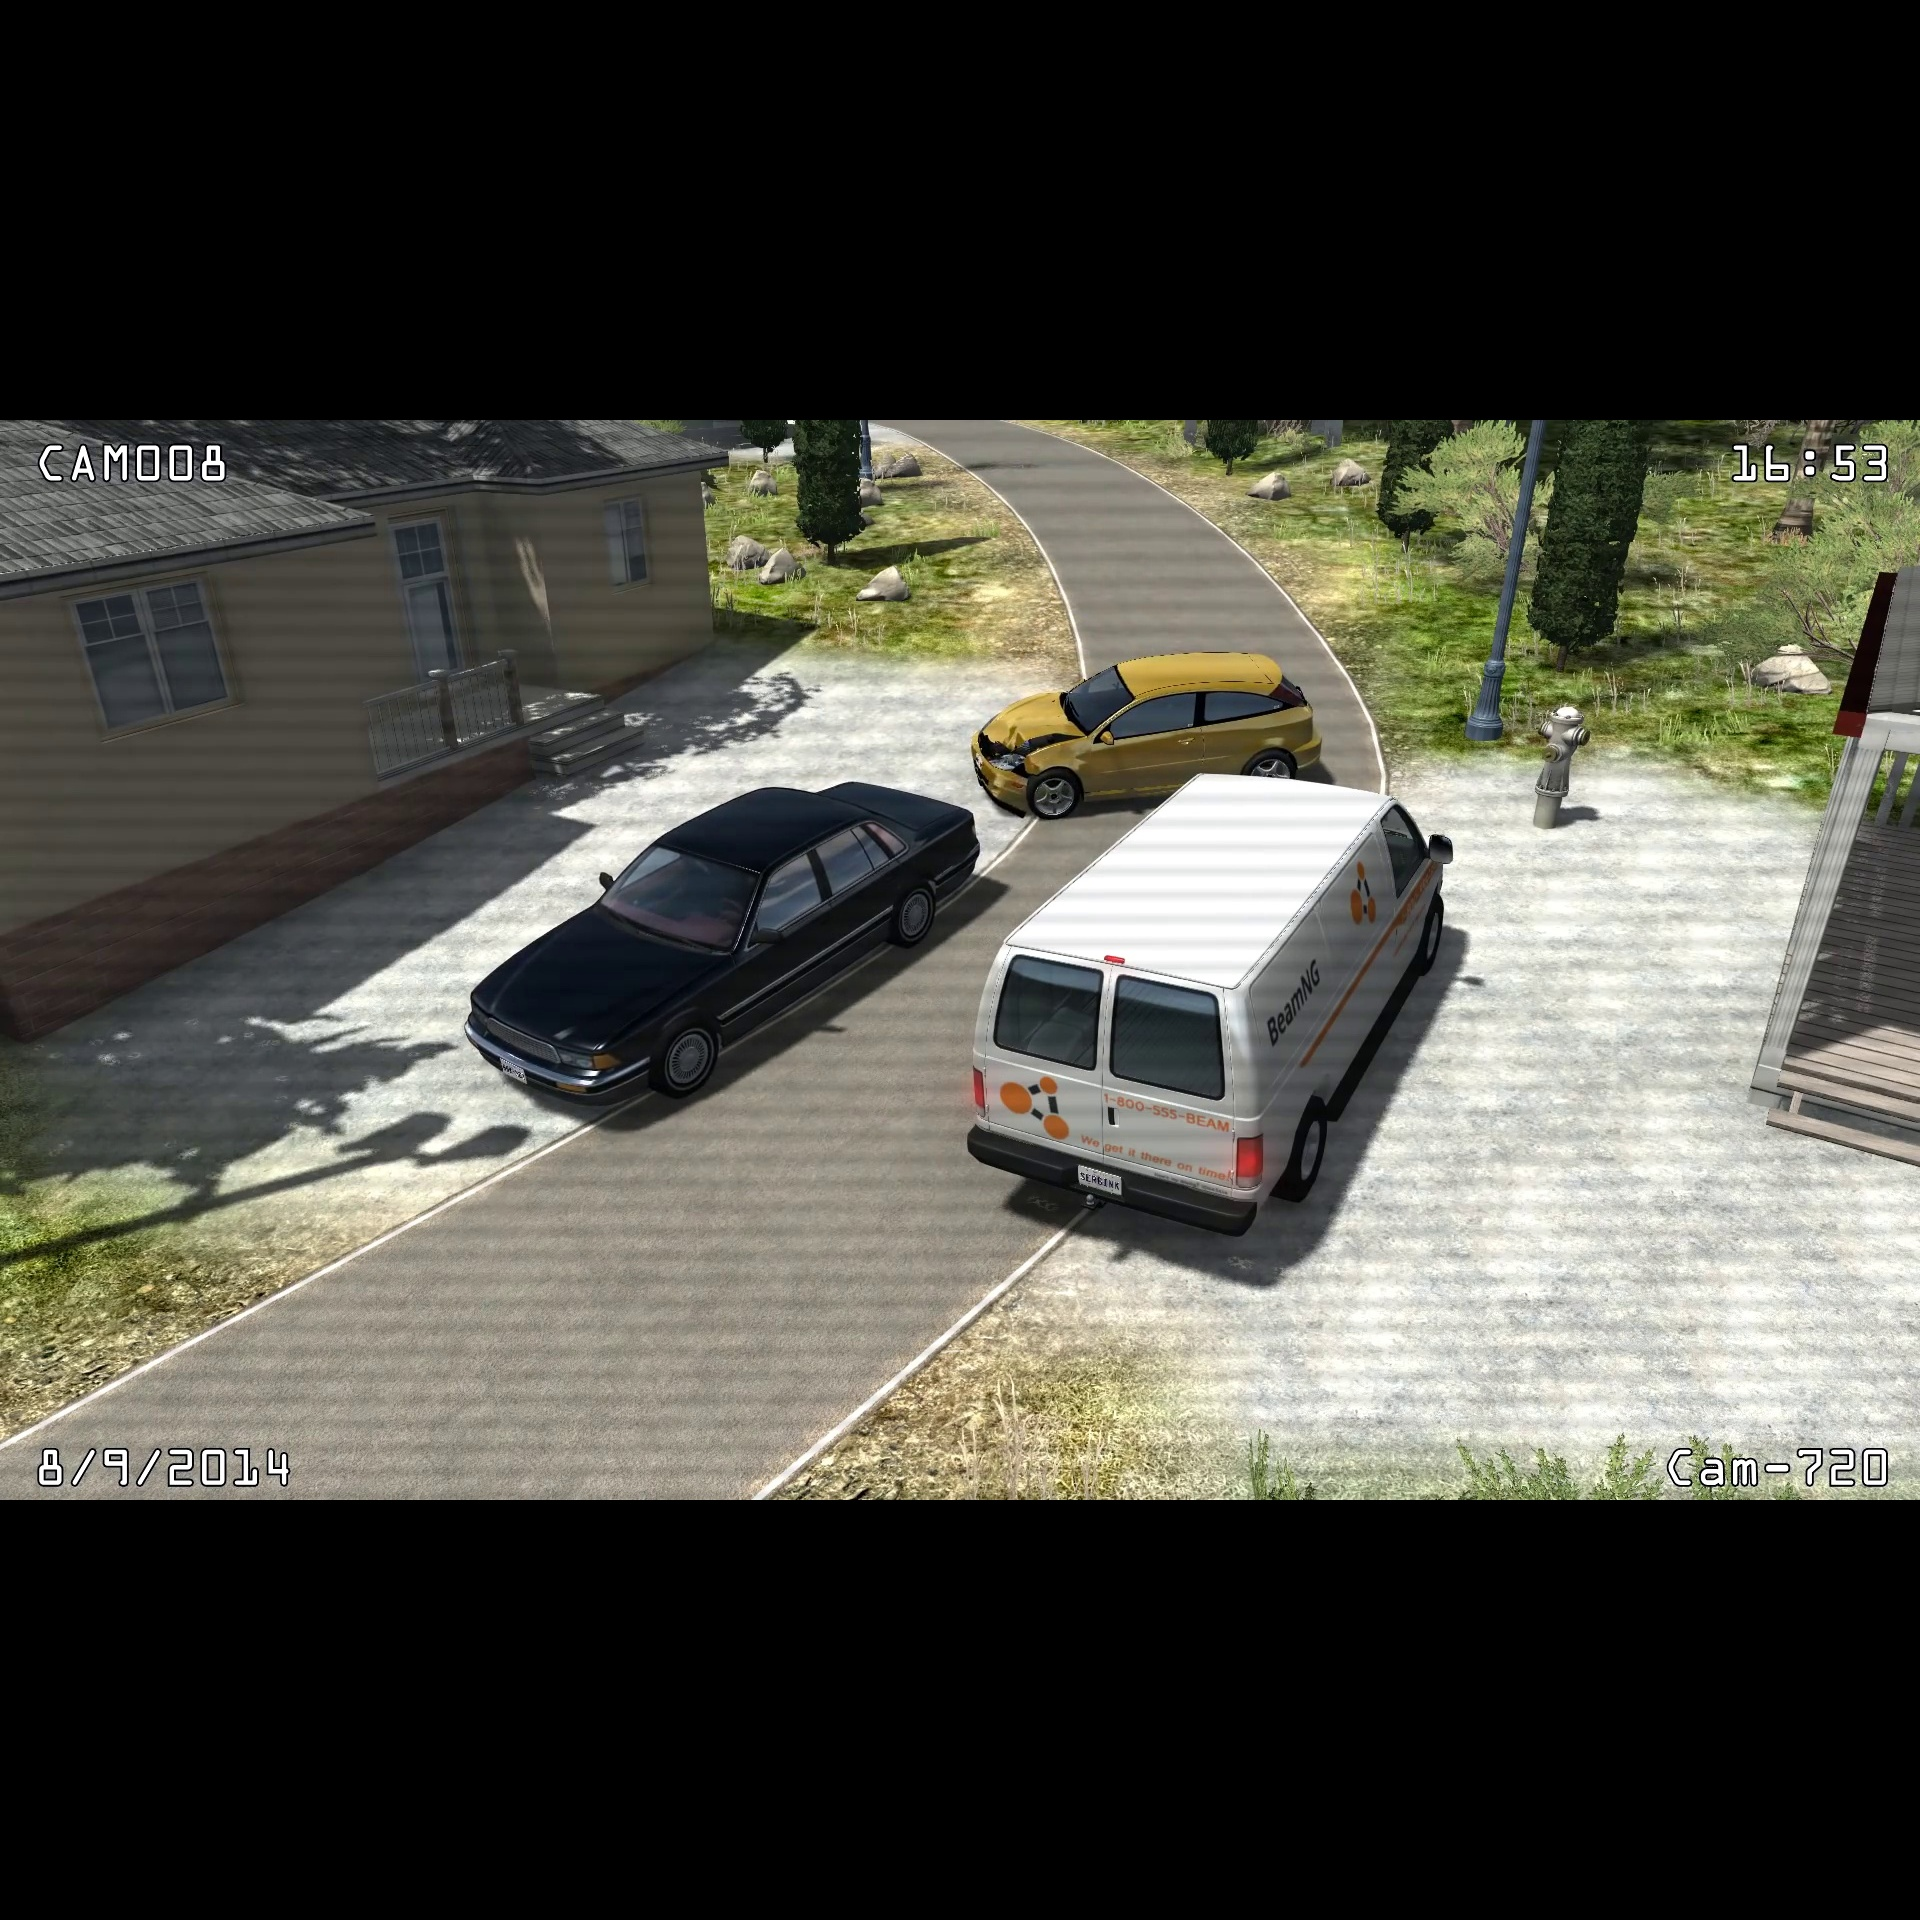vehicle: (969, 765, 1461, 1241), (461, 777, 985, 1106), (971, 642, 1340, 826)
